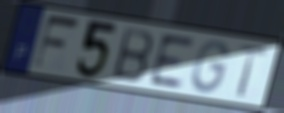5: (74, 18, 122, 80)
B: (111, 26, 156, 84)
E: (148, 32, 197, 89)
F: (30, 13, 83, 73)
G: (190, 39, 231, 95)
T: (235, 43, 271, 99)
